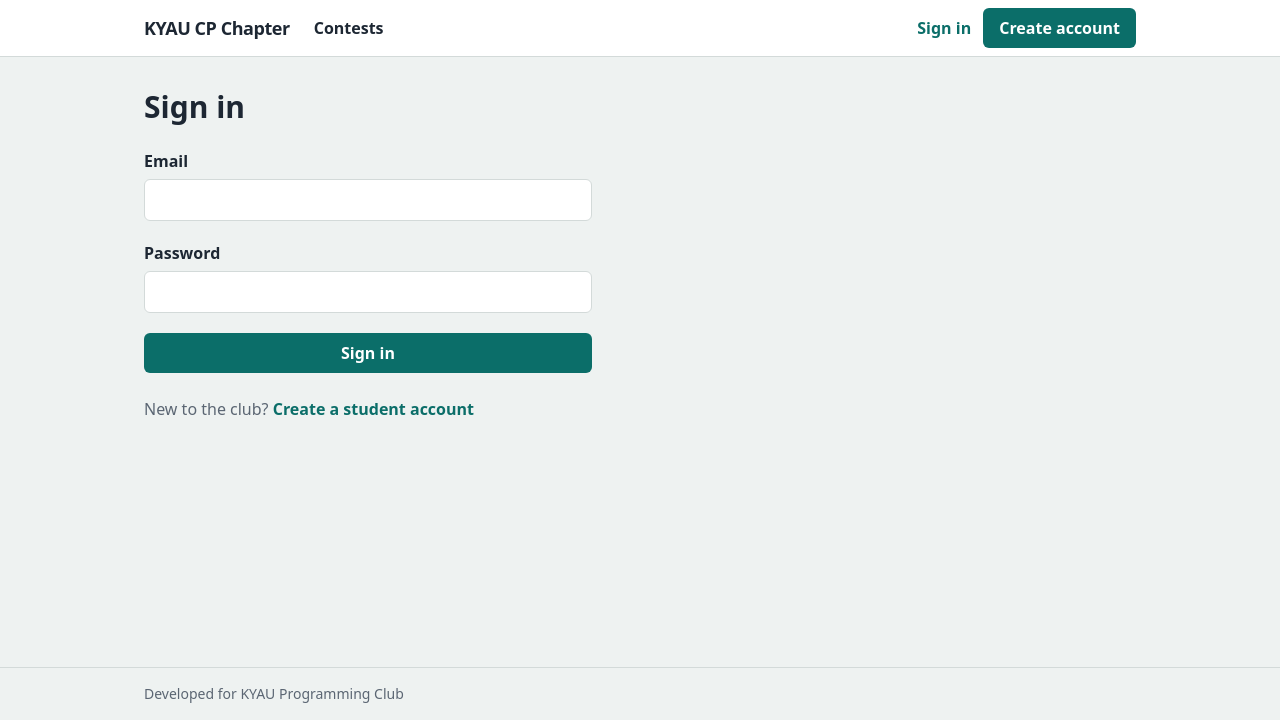
Scenario: sign in › shows the server message when the credentials are rejected
The image size is (1280, 720).
Type "anika@students.kyau.test" into the field labelled "Email" at (368, 200), box x1=144 y1=179 x2=592 y2=221
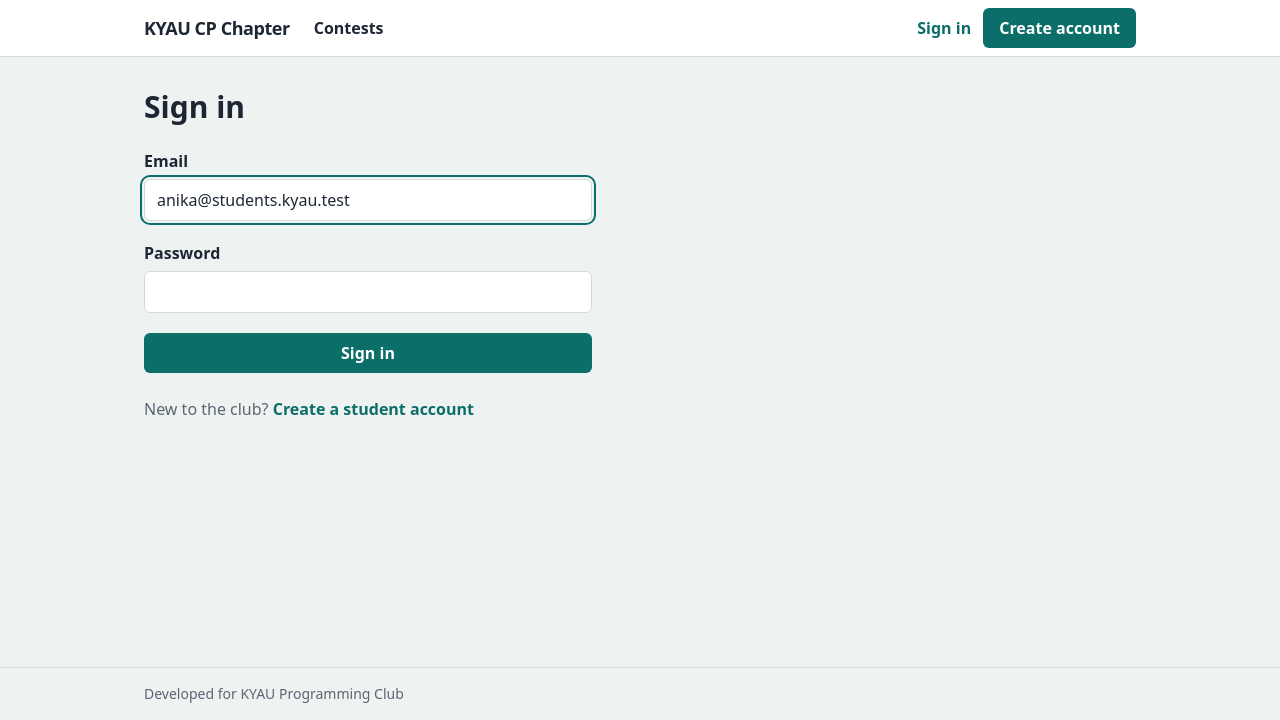
Type "wrong" into the password field labelled "Password" at (368, 292), box x1=144 y1=271 x2=592 y2=313
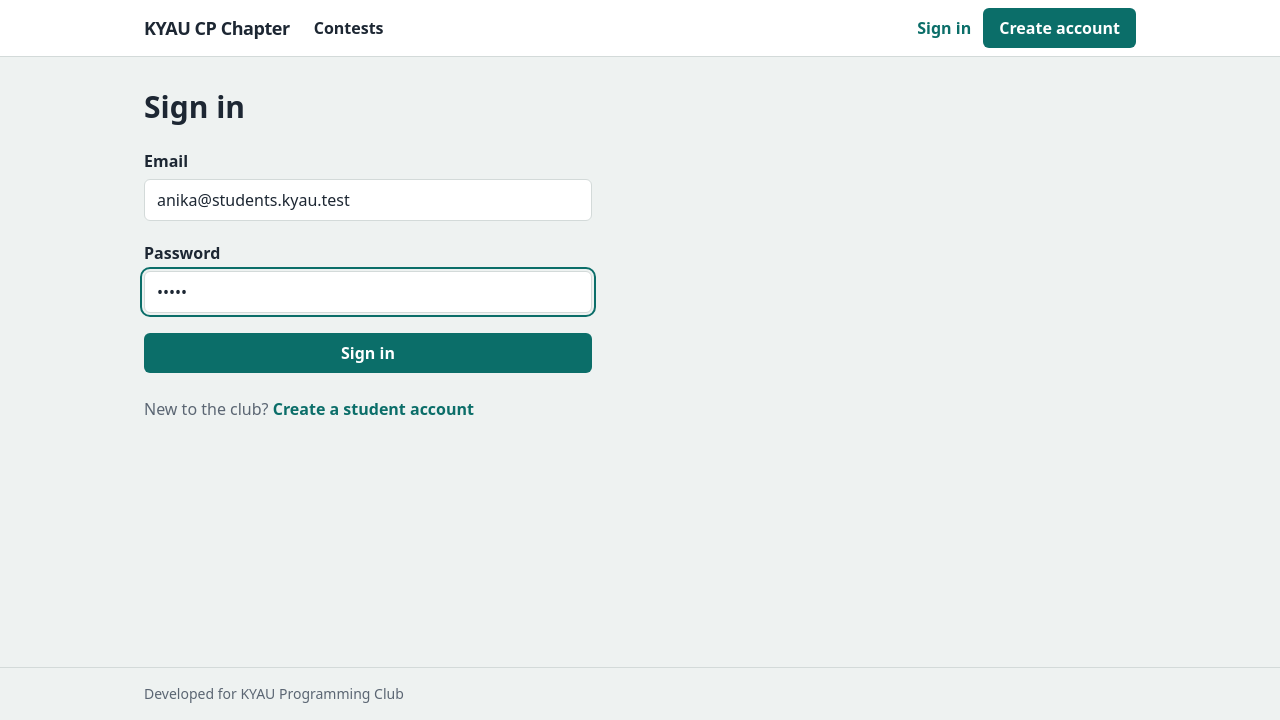
Click the button "Sign in" at (368, 353), box x1=144 y1=333 x2=592 y2=373
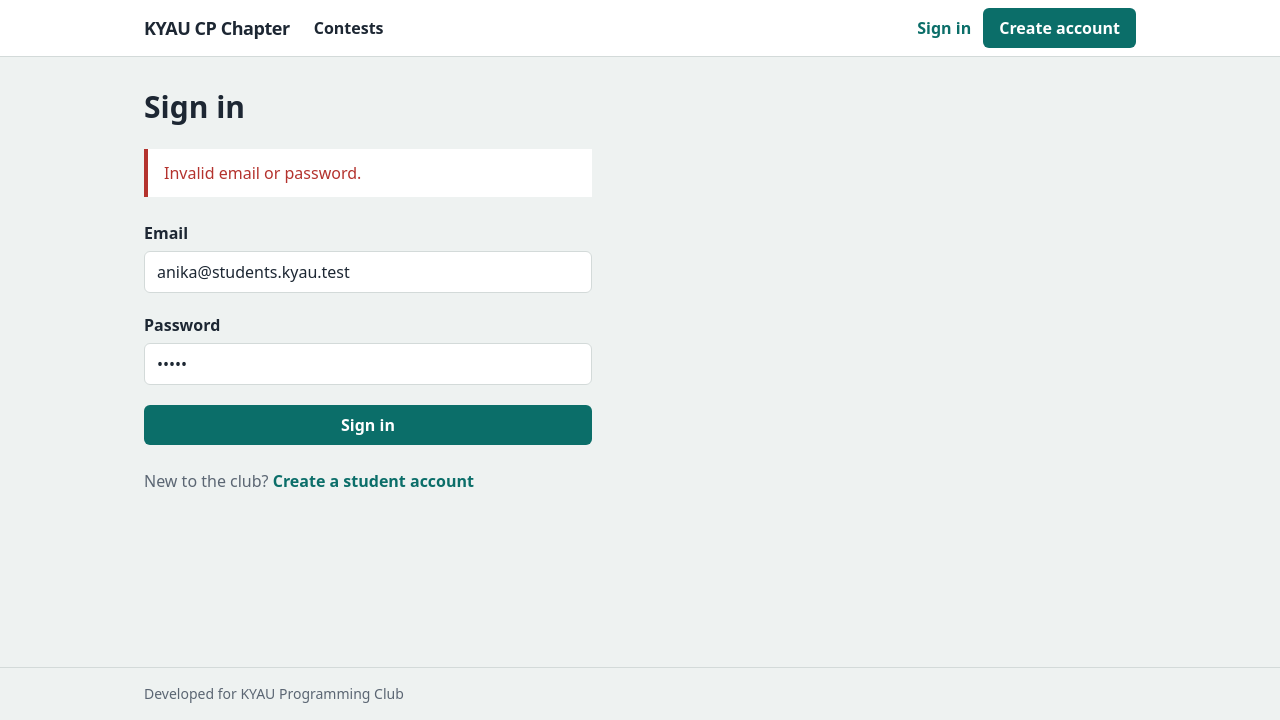
Now the message reads "Invalid email or password.", box x1=164 y1=162 x2=361 y2=184
